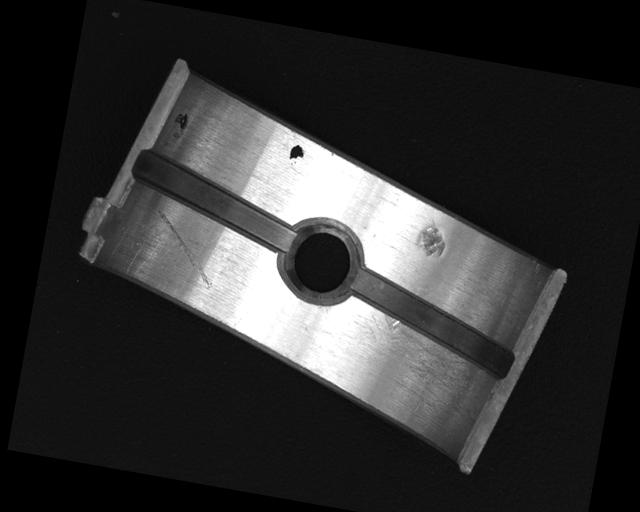blot: (169, 110, 190, 141), (286, 142, 305, 168)
bruise: (411, 214, 450, 259)
gap: (339, 266, 523, 381), (122, 147, 306, 255)
hole: (278, 213, 366, 308)
nick: (146, 210, 223, 291)
scratch: (341, 302, 495, 422)
